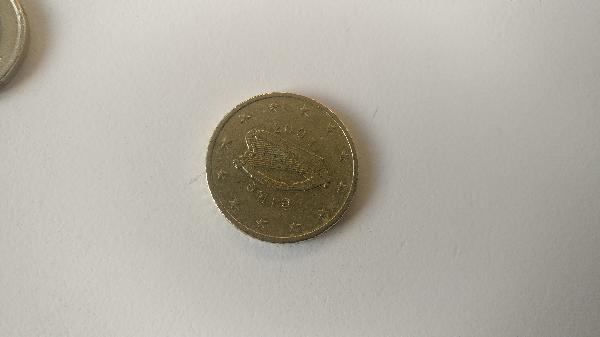Fifty Cent: (206, 88, 360, 244)
